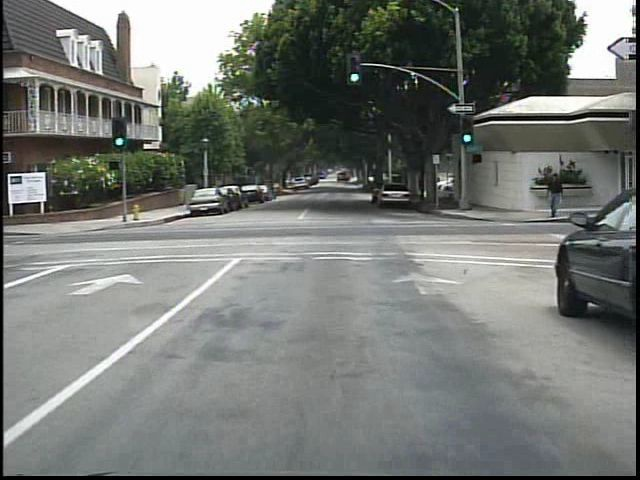person: (537, 170, 567, 222)
